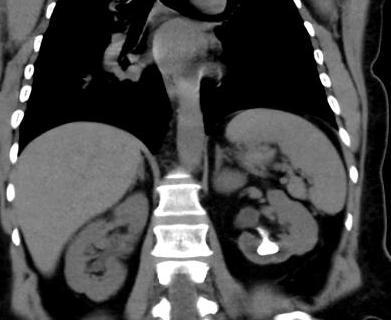Tas_Var: (256, 236, 281, 256), (257, 226, 265, 236)
